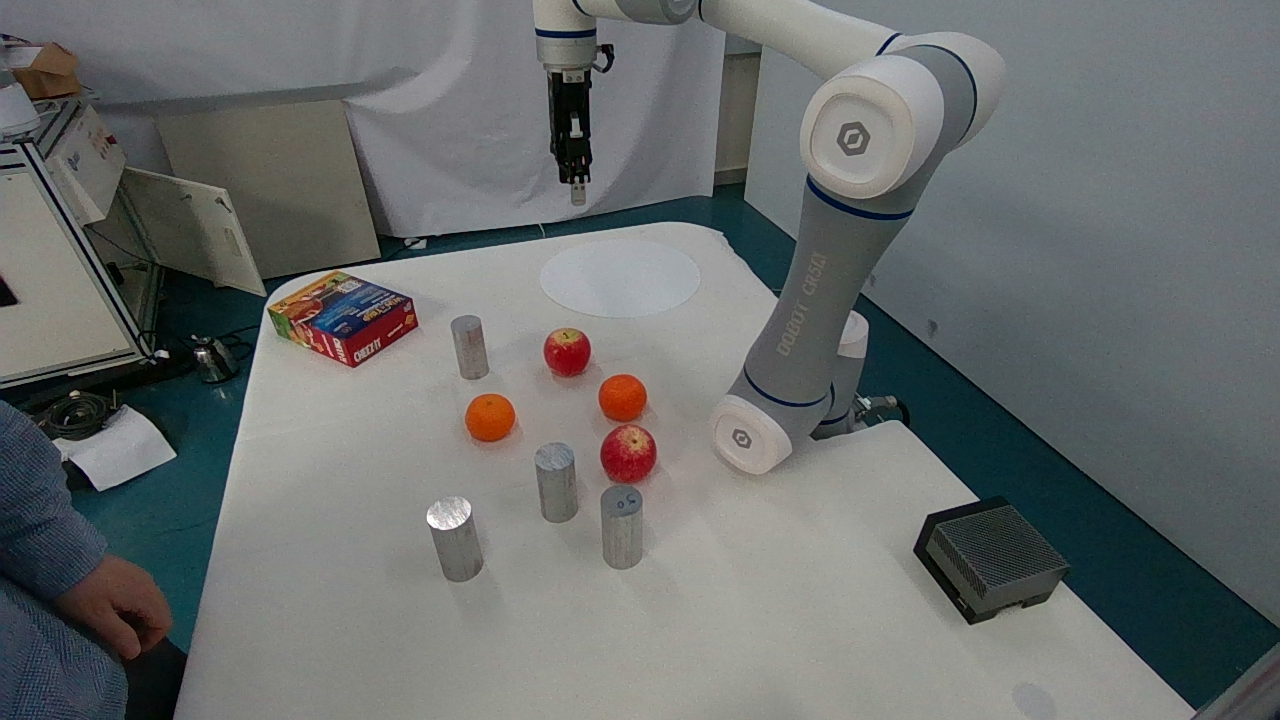apple: (456, 383, 527, 449), (583, 361, 653, 424)
metal rod: (592, 416, 670, 490), (534, 318, 593, 380)
orange: (590, 473, 667, 586), (415, 486, 489, 586), (526, 431, 581, 537), (439, 306, 500, 385)
